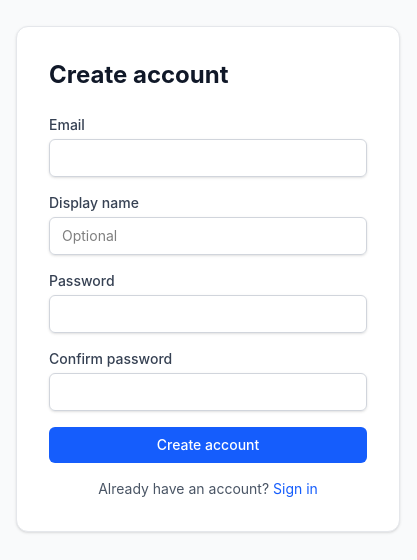
Test: RegisterPage › shows error when passwords do not match
Type "test@example.com" into the field labelled "Email" at (208, 158), box 49,139 -> 367,177
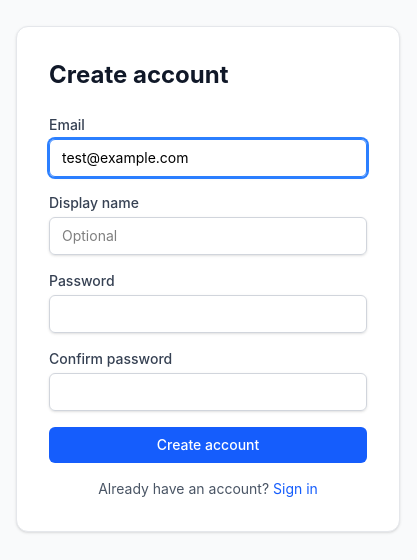
Type "password123" into the password field labelled "Password" at (208, 314), box 49,295 -> 367,333
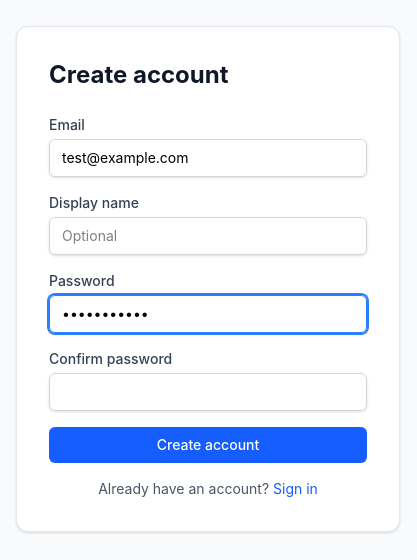
Type "different456" into the password field labelled "Confirm password" at (208, 392), box 49,373 -> 367,411
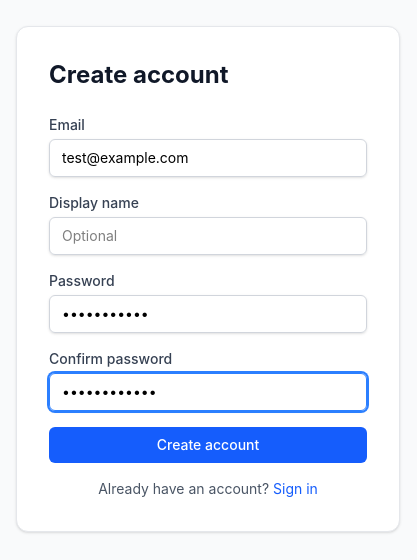
Click the button "Create account" at (208, 445), box 49,427 -> 367,463
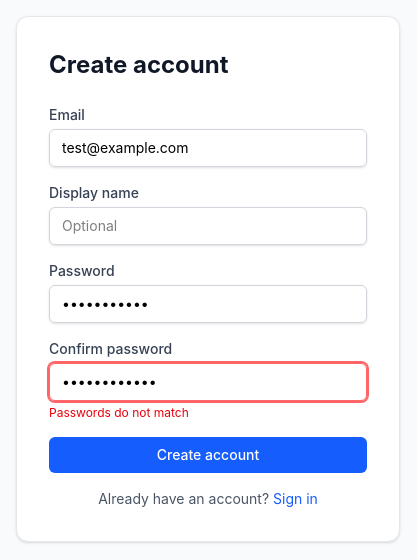
Now the text "Passwords do not match" is shown, box 49,405 -> 189,420
